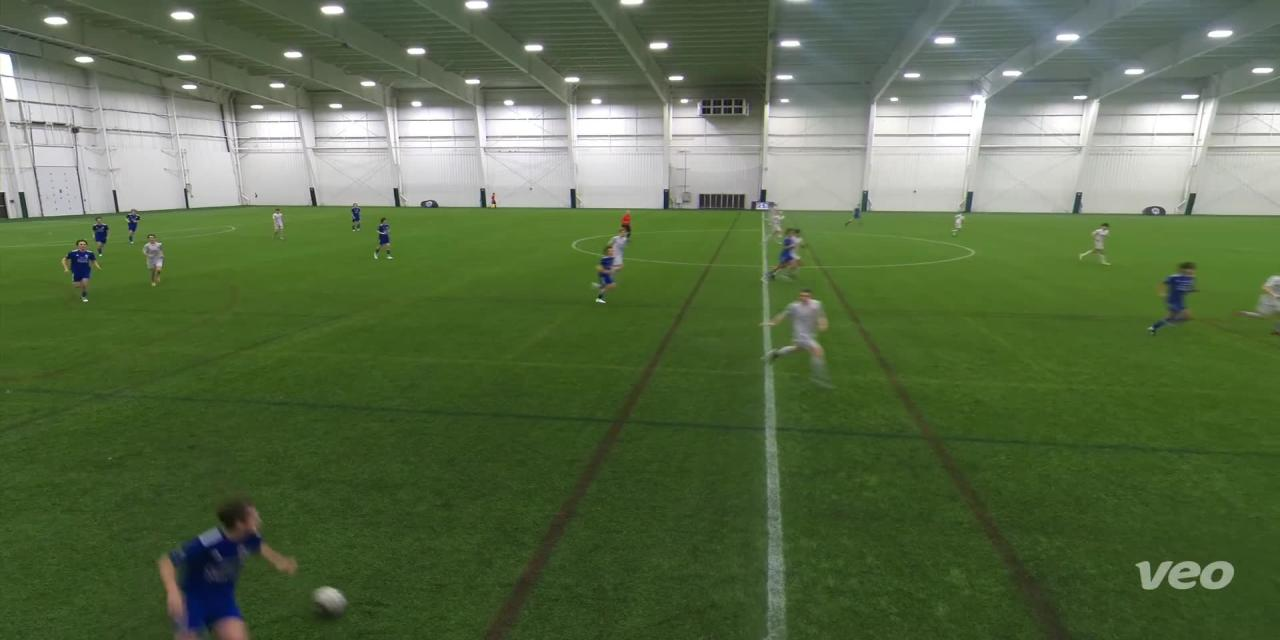sports ball: (304, 581, 351, 622)
